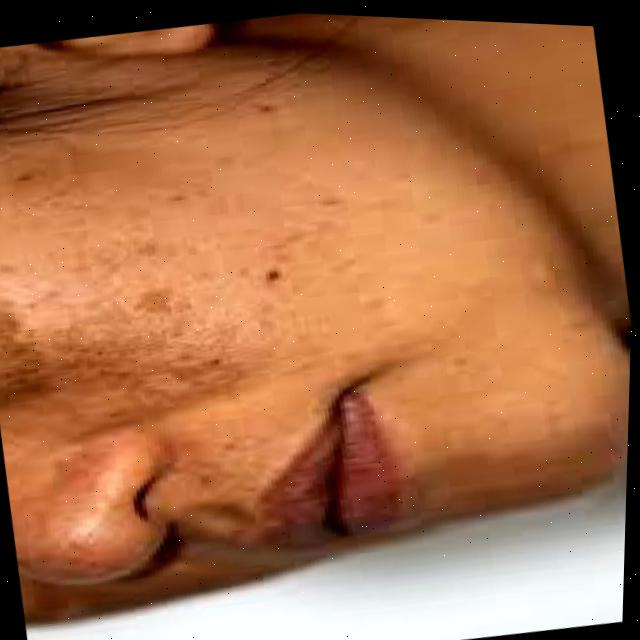Melasma: (0, 292, 200, 412)
